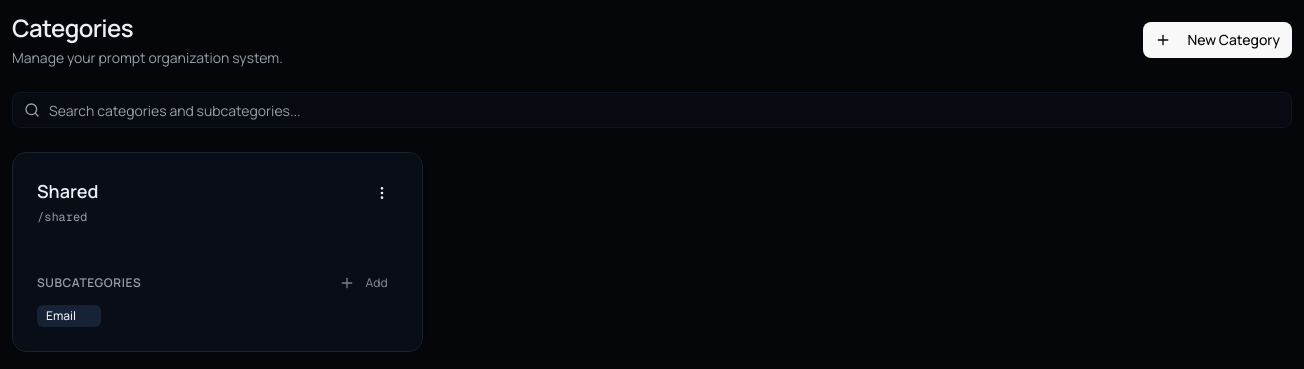
it: /dashboard/categories › shows read-only state when user does not own the category
This screenshot has width=1304, height=369.
Expected: the link "Shared" is shown, [37, 177, 98, 205]
Expected: the button with id "add-sub-btn-cat-1" is disabled, [330, 269, 398, 297]
Click the button with id "category-menu-cat-1" at (382, 193), box [366, 177, 398, 209]
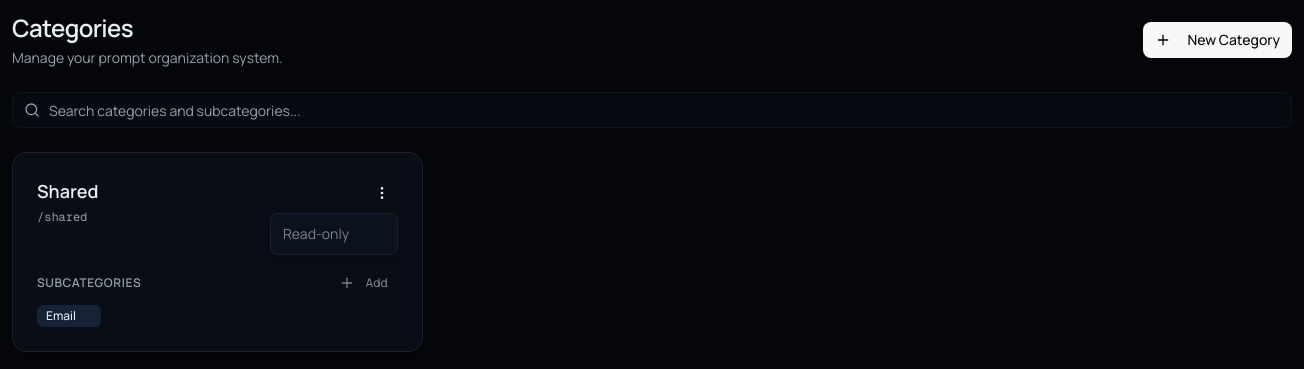
Result: the menu item "Read-only" is shown at [283, 224, 349, 243]
